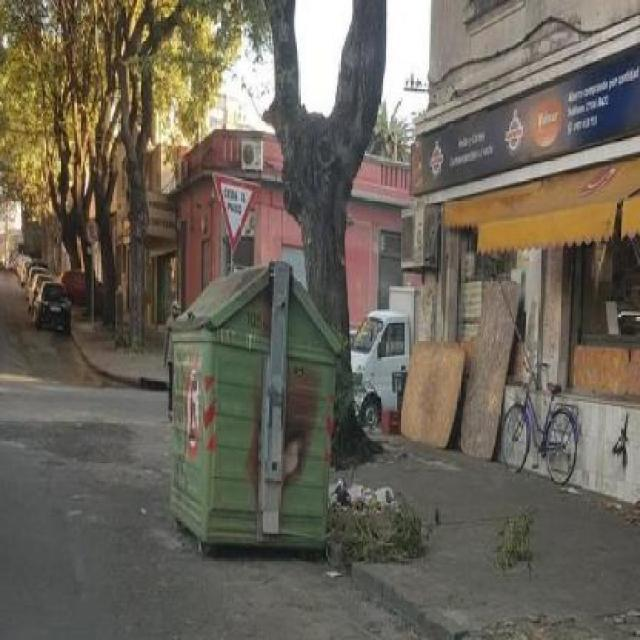garbage: (322, 452, 441, 623), (332, 317, 364, 480), (488, 493, 540, 586)
